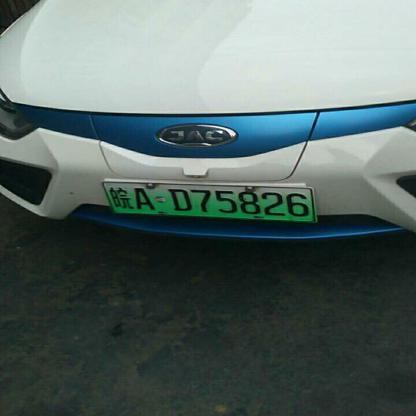lp: (102, 182, 314, 221)
